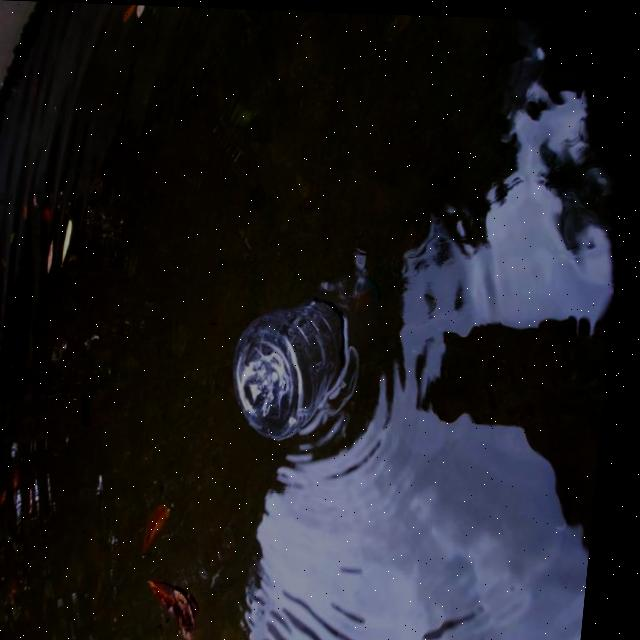leaf: (140, 498, 228, 640)
waterbottle: (219, 245, 423, 447)
